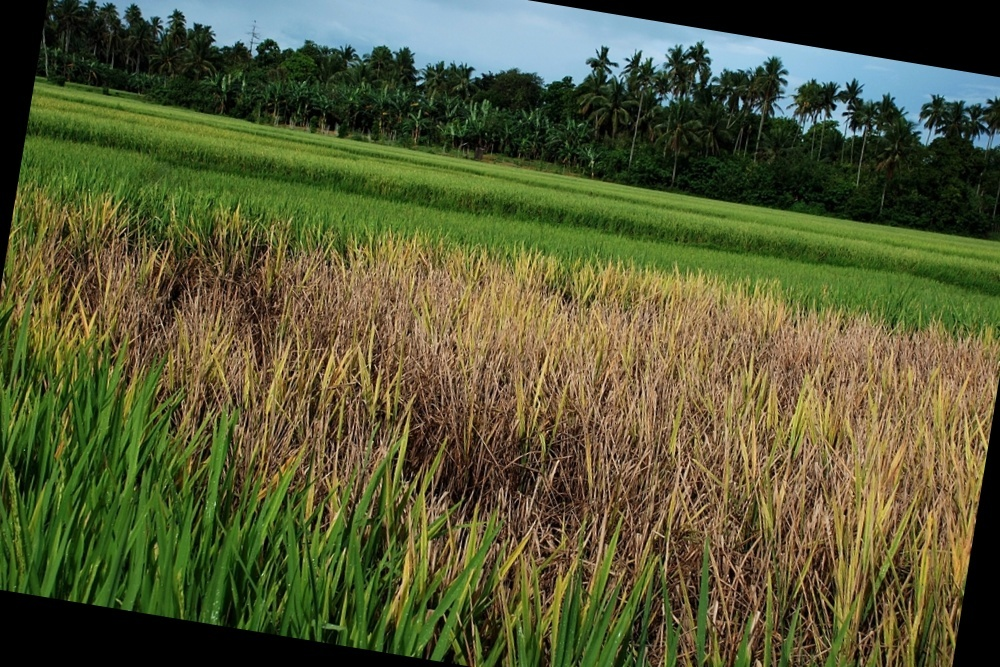Hopper_burn: (221, 221, 999, 560)
